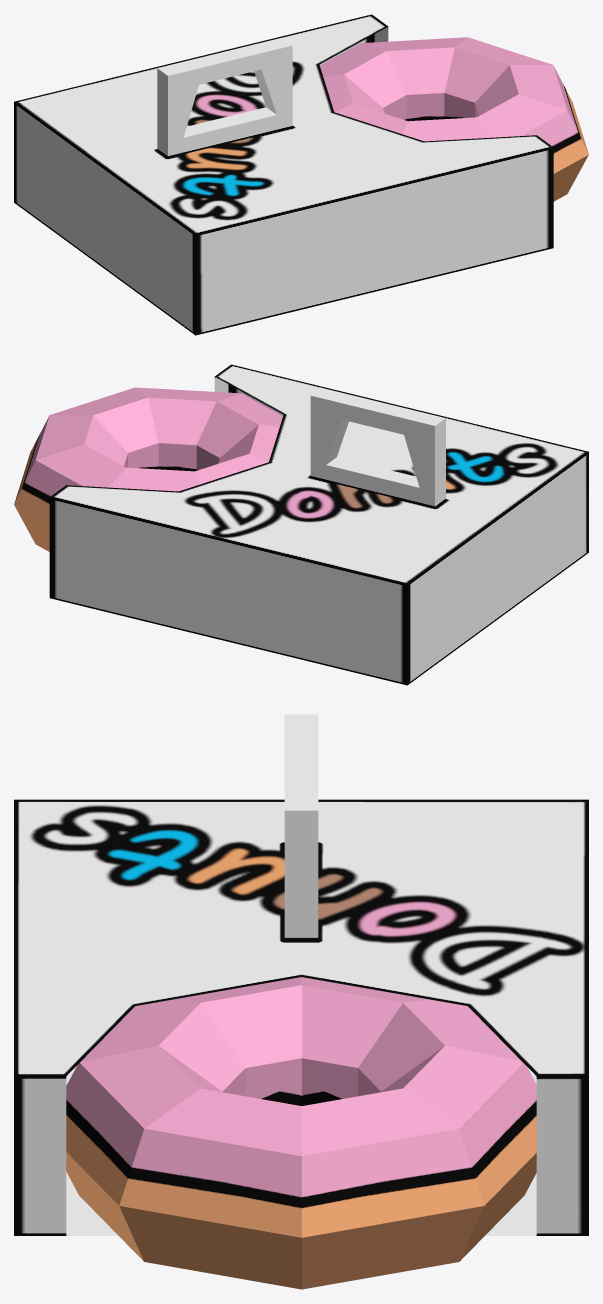
Rendered from Donut.fbx.
The picture shows the model from 3 angles, top to bottom: view 1: azimuth 30°, elevation 25°; view 2: azimuth 150°, elevation 25°; view 3: azimuth 270°, elevation 25°; orthographic projection. The views are drawn at different scales.
Parts seen in each view (by area): view 1: Box, Projectile.001; view 2: Box, Projectile.001; view 3: Box, Projectile.001.
Boxes of the visible parts, x1,y1,x2,y2 form: Box: [14, 14, 553, 335]; Projectile.001: [320, 37, 588, 201]; Box: [49, 364, 588, 685]; Projectile.001: [14, 387, 282, 551]; Box: [14, 714, 588, 1235]; Projectile.001: [66, 977, 536, 1289].
Bounding box in the file's own units: 3.71 × 1.38 × 2.49.
Materials: 2 (2 with a texture image).
